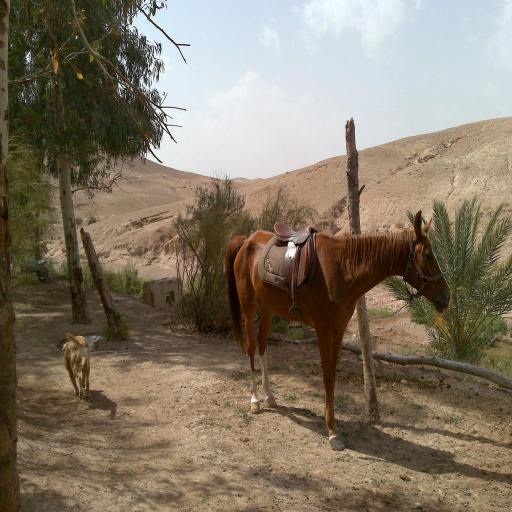horse: (224, 209, 455, 454)
